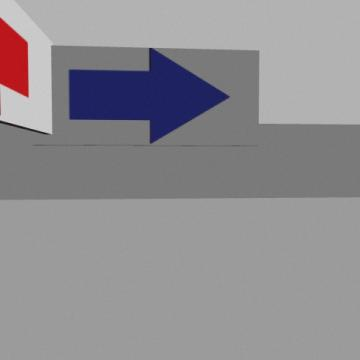blue_right: (69, 48, 229, 143)
